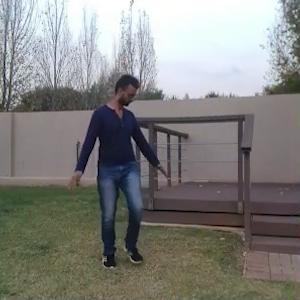land: (70, 71, 167, 273)
